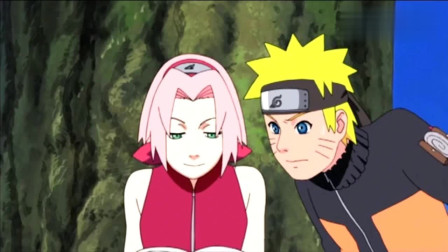naruto: (259, 78, 349, 184)
sakura: (152, 58, 230, 181)
